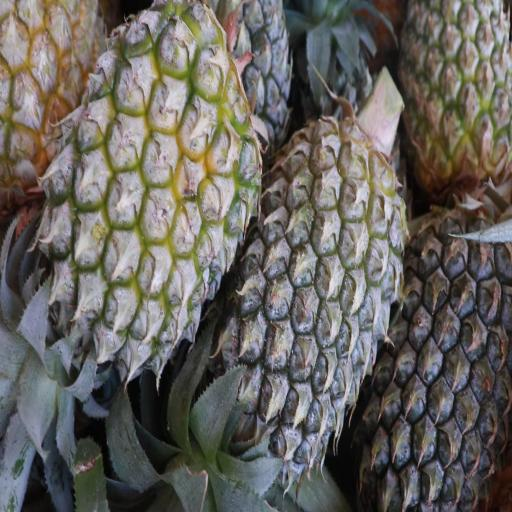------------------------------: (56, 8, 248, 347), (403, 0, 507, 205), (0, 0, 104, 181)
